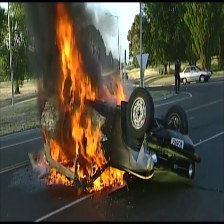fire_h: (49, 2, 109, 179), (87, 167, 125, 191), (103, 73, 126, 106), (42, 167, 73, 186)
fire_l: (37, 153, 48, 166), (41, 125, 47, 144)
